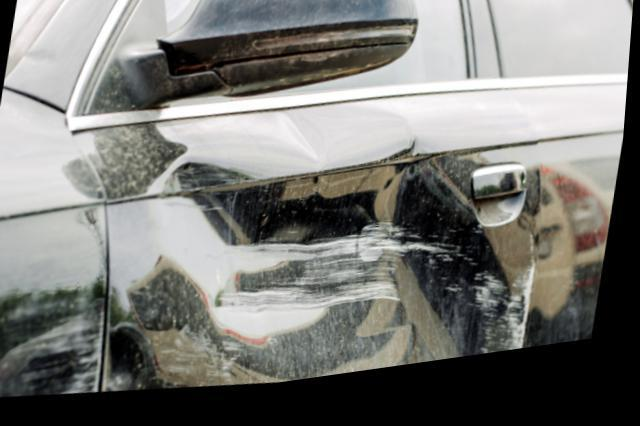dent: (108, 113, 538, 396)
scratch: (22, 304, 110, 398)
